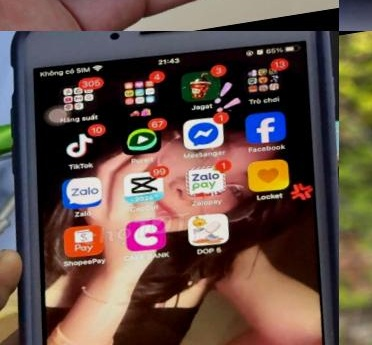physical_damage: (311, 323, 339, 345)
